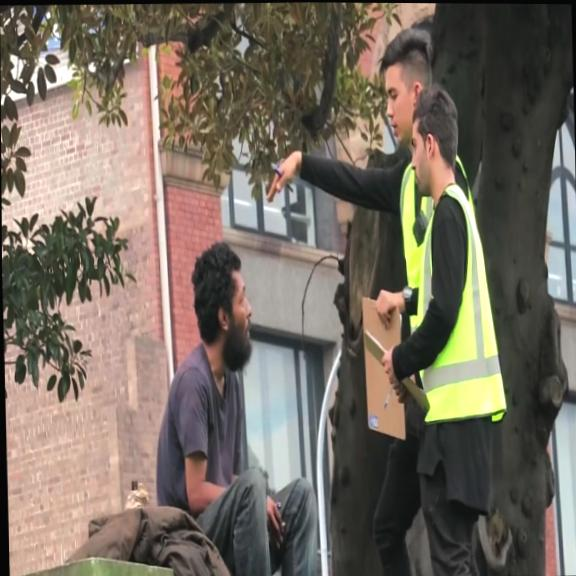safety_vest: (414, 178, 506, 425), (397, 154, 477, 335)
